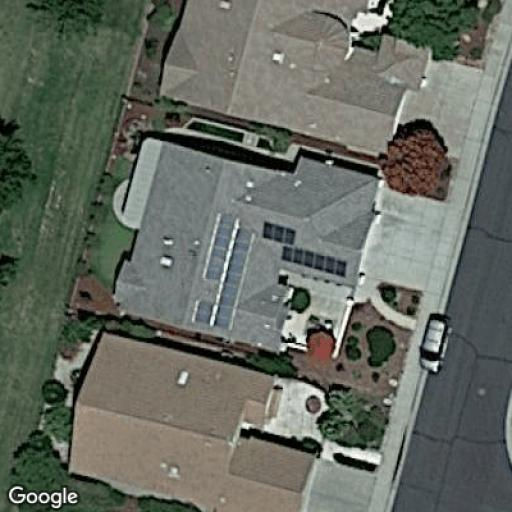solar-panel: (189, 210, 255, 330), (259, 216, 349, 276)
